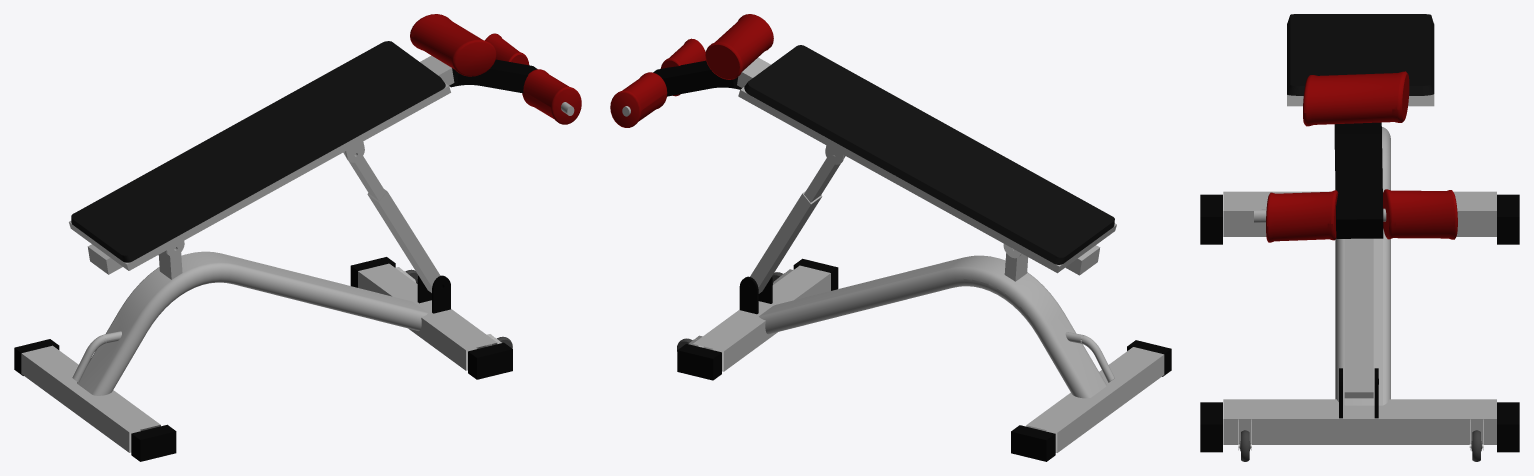
The model's file is MSH_Abdominales.FBX.
3 views of the same model, side by side, from view 1: azimuth 30°, elevation 25°; view 2: azimuth 150°, elevation 25°; view 3: azimuth 270°, elevation 25° (orthographic). The views are drawn at different scales.
Visible parts, largest first — view 1: MSH_Abdominales; view 2: MSH_Abdominales; view 3: MSH_Abdominales.
Part boxes in pixels (bbox=[...]): MSH_Abdominales: bbox=[14, 14, 581, 461]; MSH_Abdominales: bbox=[610, 14, 1171, 461]; MSH_Abdominales: bbox=[1200, 14, 1519, 461].
Size of the model in its own units: 1.37 by 0.8341 by 0.6329.
